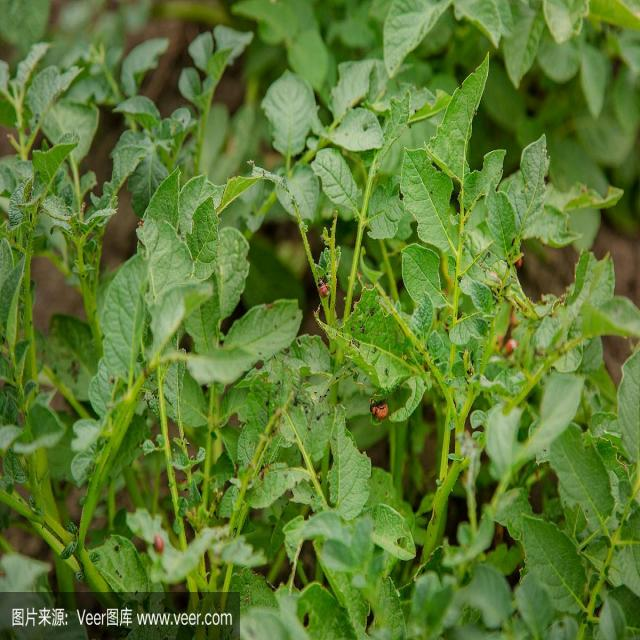ShuCaiHuaBanChong-Larva-: (368, 391, 392, 429), (315, 273, 335, 304)
